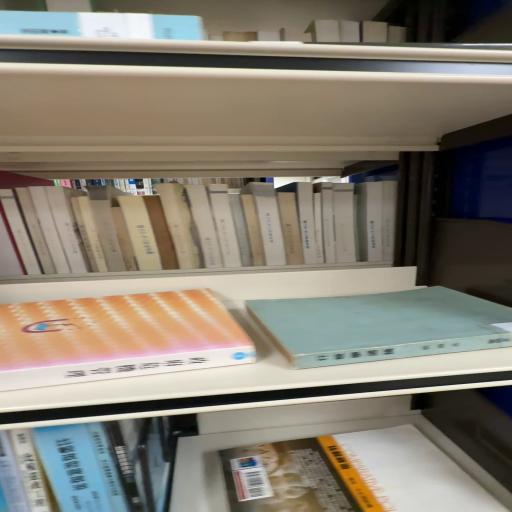flat: (1, 290, 257, 392), (220, 425, 508, 512), (247, 287, 512, 370)
